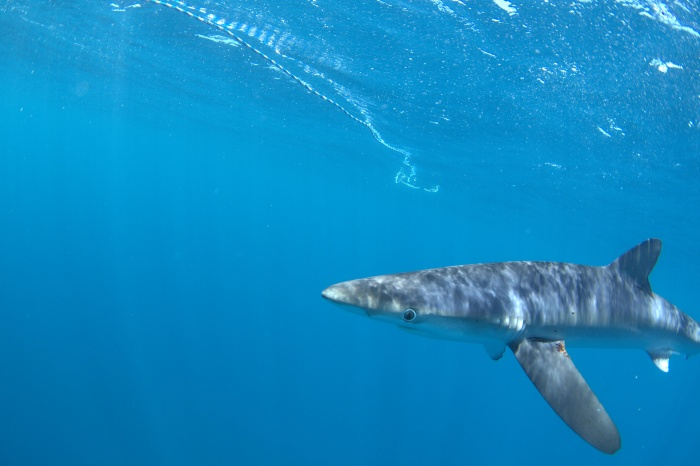Azul: (311, 219, 700, 462)
